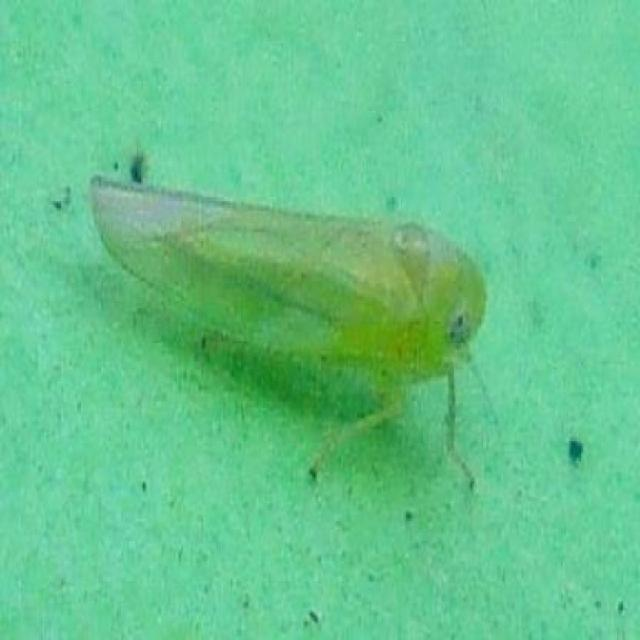green-leafhopper: (91, 182, 492, 456)
